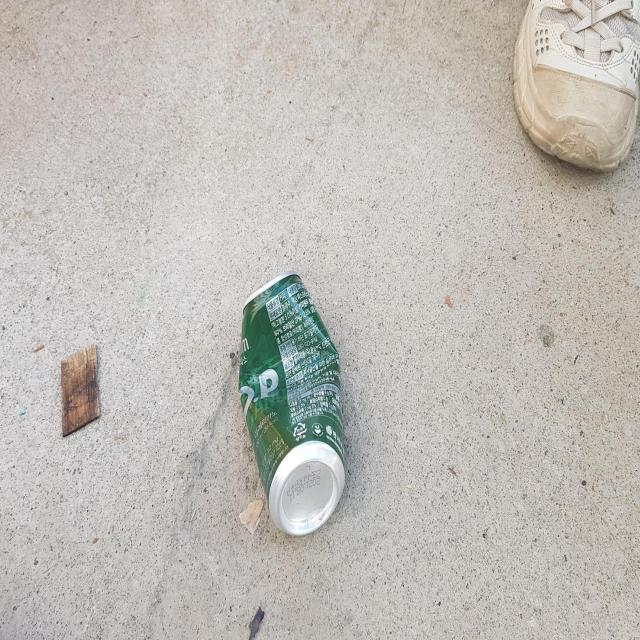can: (239, 271, 345, 536)
